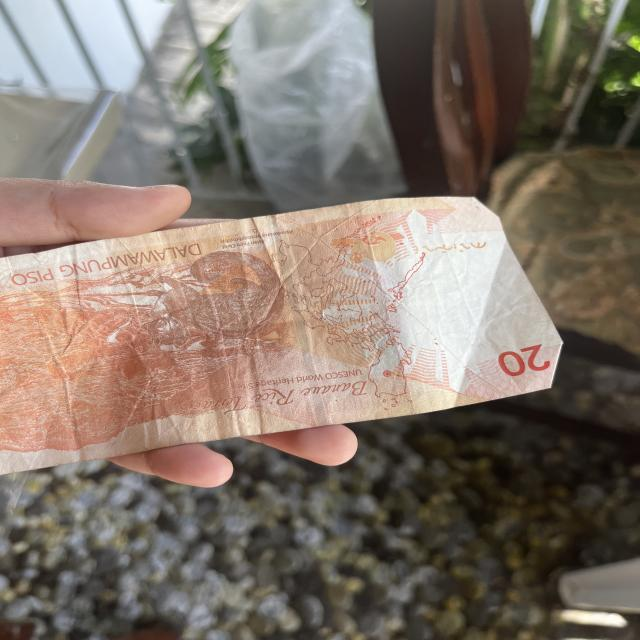20_civet: (137, 247, 288, 346)
20_civet_watermark: (330, 228, 405, 266)
